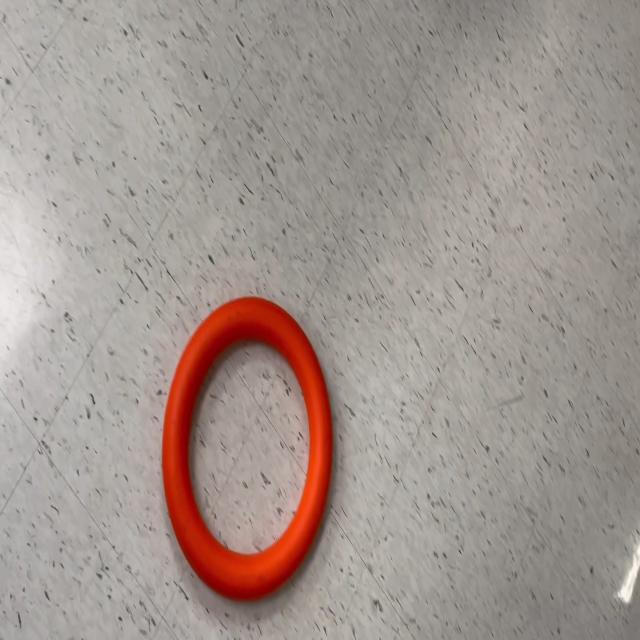note: (160, 294, 334, 603)
